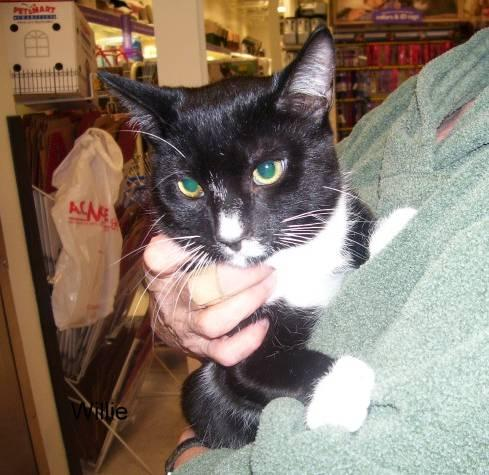cat: (101, 26, 415, 472)
